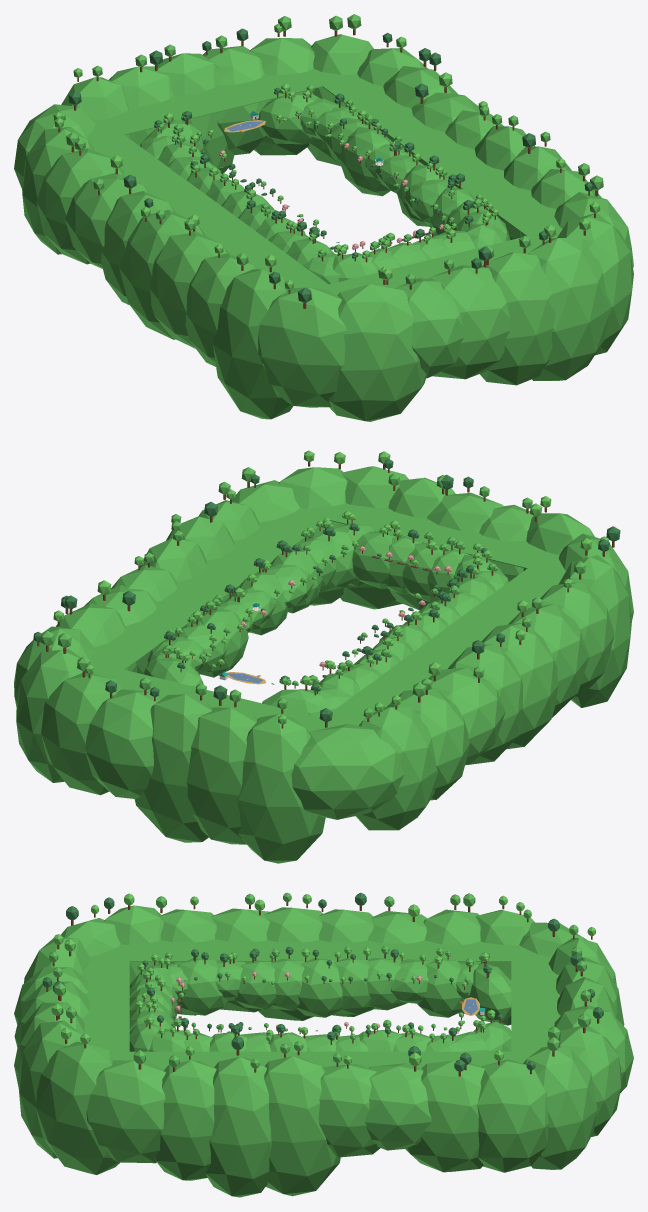
Rendered from CatCafe_Park_BackdropF85.glb.
The picture shows the model from 3 angles, top to bottom: view 1: azimuth 30°, elevation 25°; view 2: azimuth 150°, elevation 25°; view 3: azimuth 270°, elevation 25°; orthographic projection. The views are drawn at different scales.
Visible parts, largest first — view 1: CatCafe_Park_BackdropF85_HillsFar, CatCafe_Park_BackdropF85_Ground, CatCafe_Park_BackdropF85_Hills, CatCafe_Park_BackdropF85; view 2: CatCafe_Park_BackdropF85_HillsFar, CatCafe_Park_BackdropF85_Hills, CatCafe_Park_BackdropF85_Ground, CatCafe_Park_BackdropF85; view 3: CatCafe_Park_BackdropF85_HillsFar, CatCafe_Park_BackdropF85_Hills, CatCafe_Park_BackdropF85_Ground, CatCafe_Park_BackdropF85.
Boxes of the visible parts, box(x1,y1,x2,y2) form: CatCafe_Park_BackdropF85_HillsFar: box(14, 34, 633, 421); CatCafe_Park_BackdropF85_Ground: box(86, 68, 562, 295); CatCafe_Park_BackdropF85_Hills: box(140, 93, 510, 284); CatCafe_Park_BackdropF85: box(53, 14, 603, 308); CatCafe_Park_BackdropF85_HillsFar: box(14, 466, 633, 863); CatCafe_Park_BackdropF85_Hills: box(144, 523, 508, 717); CatCafe_Park_BackdropF85_Ground: box(89, 503, 565, 731); CatCafe_Park_BackdropF85: box(33, 450, 620, 728); CatCafe_Park_BackdropF85_HillsFar: box(14, 905, 633, 1197); CatCafe_Park_BackdropF85_Hills: box(129, 958, 511, 1051); CatCafe_Park_BackdropF85_Ground: box(80, 939, 560, 1070); CatCafe_Park_BackdropF85: box(42, 892, 603, 1076).
Bounding box in the file's own units: 592 × 226 × 812.
1 material, 1 textured.
